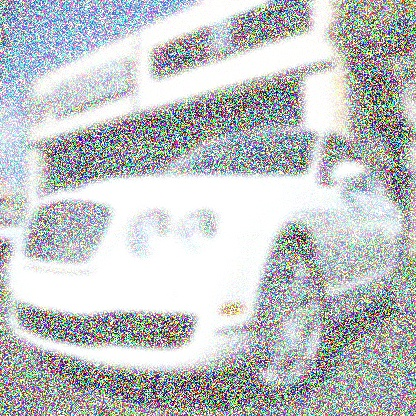Vehicle: (3, 117, 410, 406)
